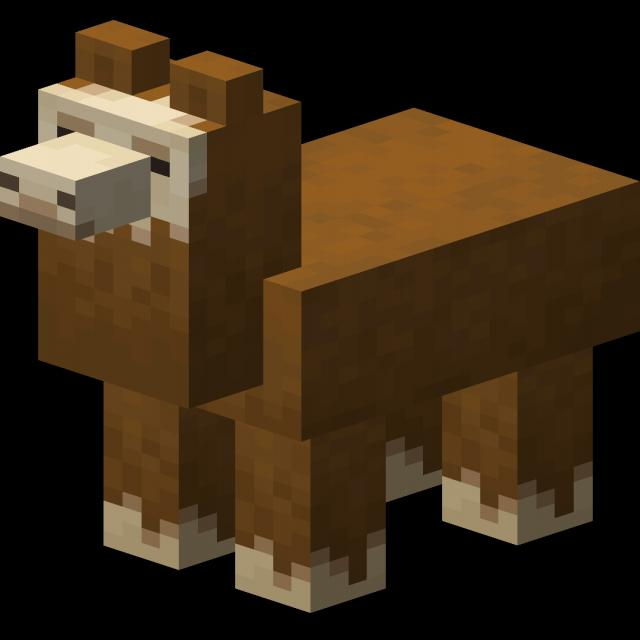Llama: (0, 22, 635, 614)
